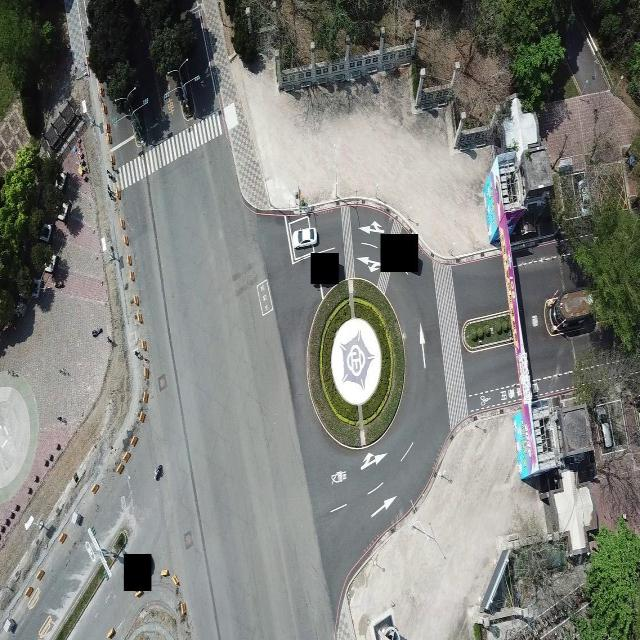bike: (153, 463, 164, 484)
car: (595, 402, 615, 455), (576, 174, 592, 222), (292, 226, 318, 249)
